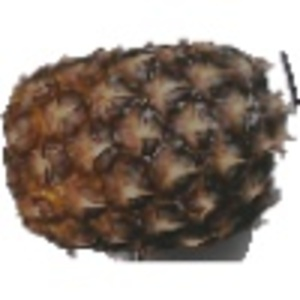abacaxi: (1, 37, 286, 252)
